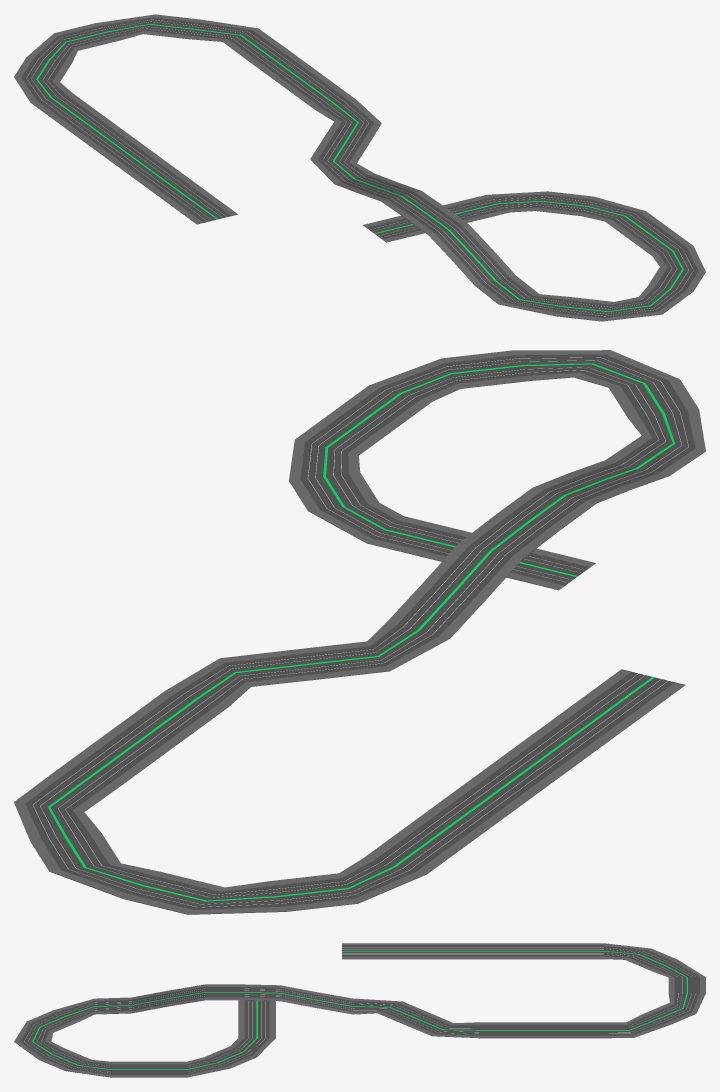
The model's file is roadnetwork.fbx.
3 renders of one model, top to bottom at view 1: azimuth 30°, elevation 25°; view 2: azimuth 150°, elevation 25°; view 3: azimuth 270°, elevation 25°, orthographic. The views are drawn at different scales.
Parts seen in each view (by area): view 1: Cube; view 2: Cube; view 3: Cube.
Boxes of the visible parts, bbox=[...] form: Cube: bbox=[14, 14, 705, 321]; Cube: bbox=[14, 350, 705, 914]; Cube: bbox=[14, 943, 705, 1077].
Size of the model in its own units: 40800 by 2022 by 88800.
